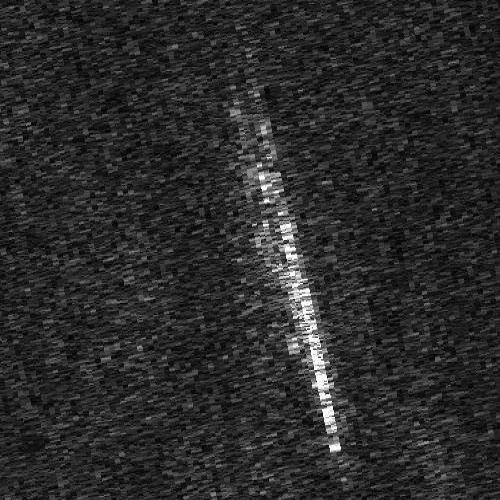ship: (257, 169, 341, 455)
